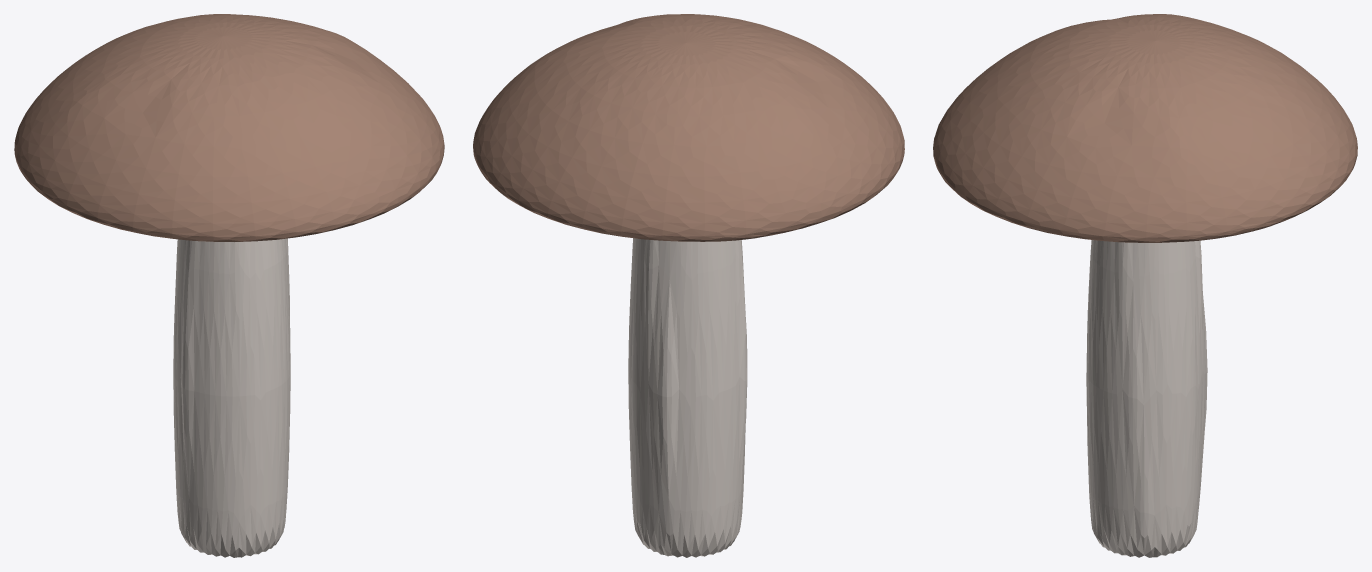
The model's file is grib12.fbx.
3 views of the same model, side by side, from view 1: azimuth 30°, elevation 25°; view 2: azimuth 150°, elevation 25°; view 3: azimuth 270°, elevation 25° (orthographic).
Parts seen in each view (by area): view 1: Sphere_001; view 2: Sphere_001; view 3: Sphere_001.
Boxes of the visible parts, x1,y1,x2,y2 form: Sphere_001: [14, 14, 444, 557]; Sphere_001: [473, 14, 904, 557]; Sphere_001: [933, 14, 1357, 557].
Size of the model in its own units: 225 by 290 by 224.
